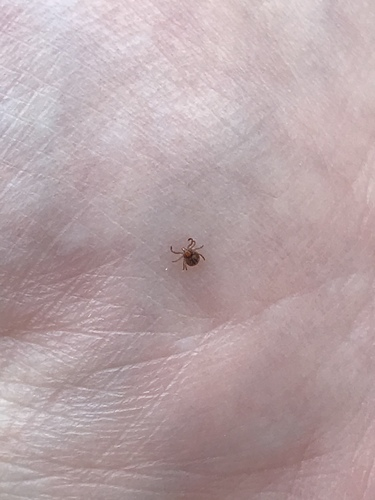dog tick: (169, 239, 208, 293)
